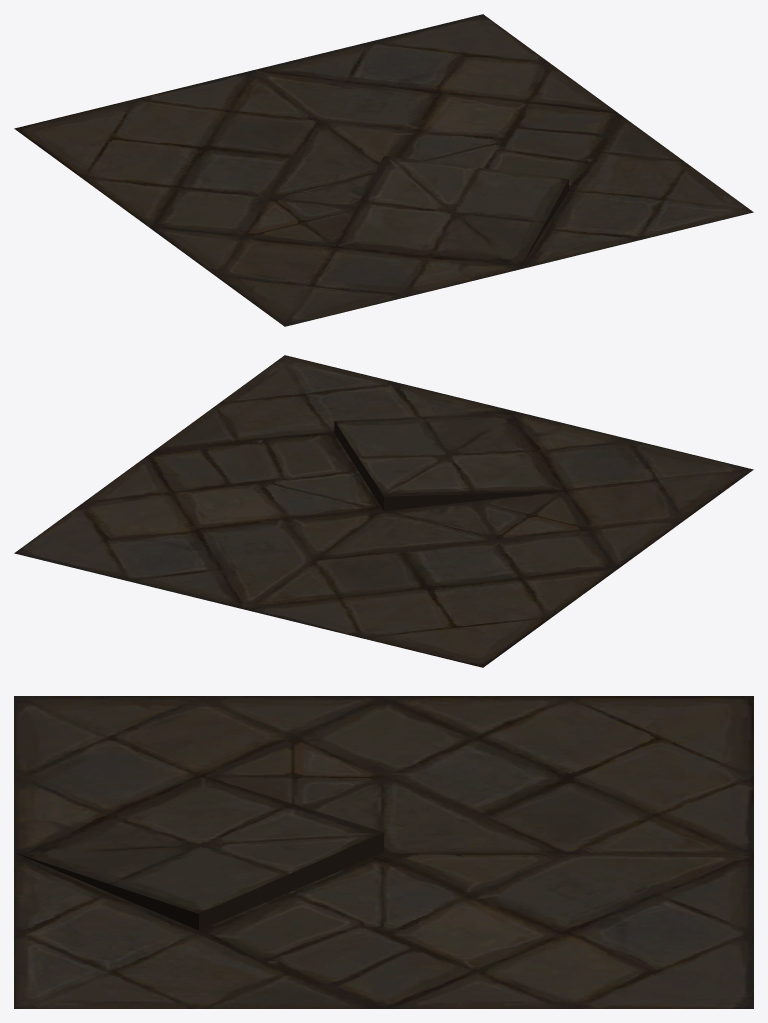
The model's file is fortress_floor_blank_06.fbx.
3 views of the same model, one above another, from view 1: azimuth 30°, elevation 25°; view 2: azimuth 150°, elevation 25°; view 3: azimuth 270°, elevation 25° (orthographic). The views are drawn at different scales.
Visible parts, largest first — view 1: fortress_tileset/Floor_01_mat_shadow; view 2: fortress_tileset/Floor_01_mat_shadow; view 3: fortress_tileset/Floor_01_mat_shadow.
Boxes of the visible parts, box(x1,y1,x2,y2) form: fortress_tileset/Floor_01_mat_shadow: box(14, 14, 753, 326); fortress_tileset/Floor_01_mat_shadow: box(14, 355, 753, 667); fortress_tileset/Floor_01_mat_shadow: box(14, 696, 753, 1008).
Size of the model in its own units: 4 by 0.1203 by 4.
